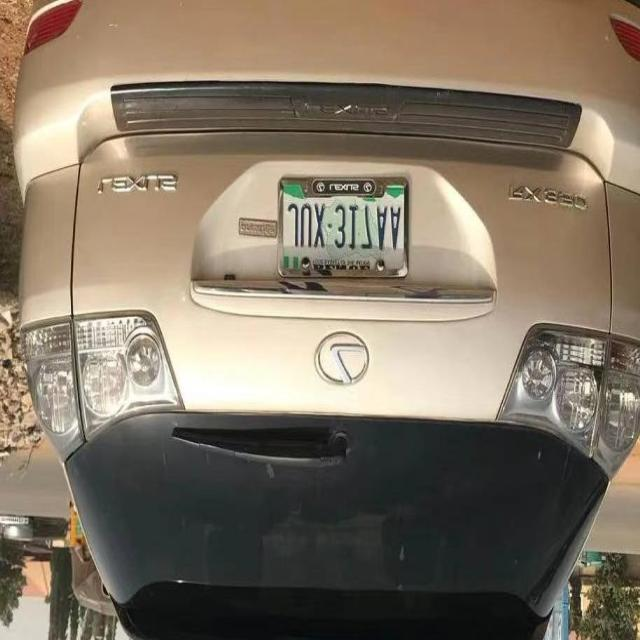Nigerian License Plate - vdataset benjamin-daria: (277, 182, 409, 282)
